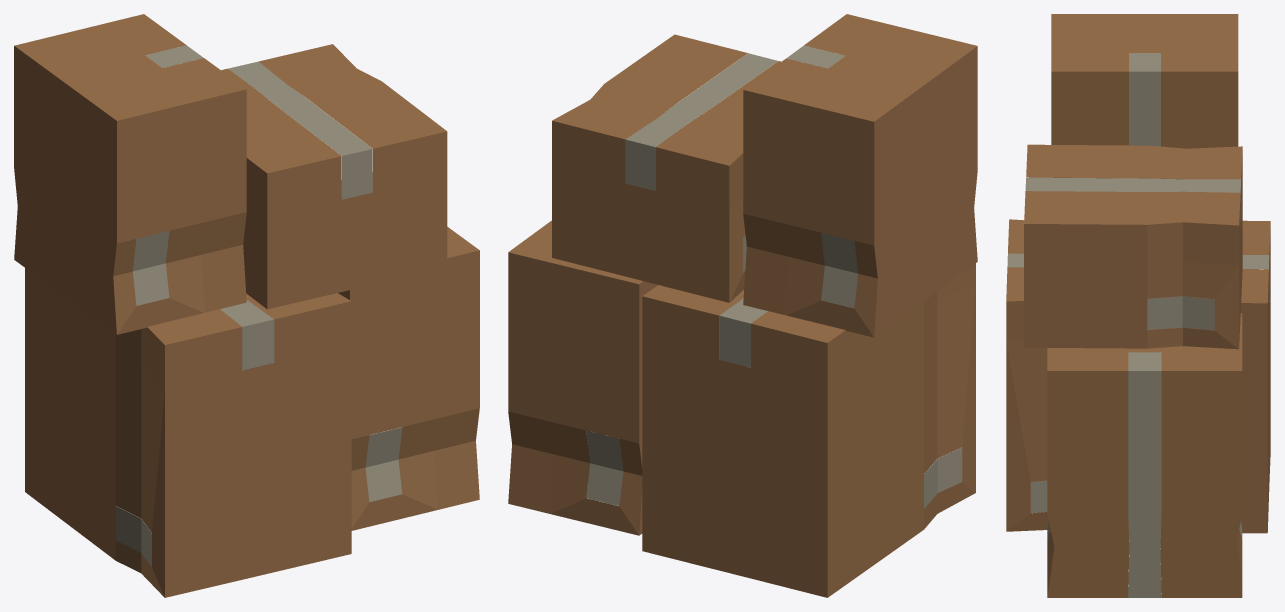
Rendered from CardboardBoxes.glb.
3 views of the same model, side by side, from view 1: azimuth 30°, elevation 25°; view 2: azimuth 150°, elevation 25°; view 3: azimuth 270°, elevation 25° (orthographic). The views are drawn at different scales.
Parts seen in each view (by area): view 1: CardboardBoxes_4; view 2: CardboardBoxes_4; view 3: CardboardBoxes_4.
Boxes of the visible parts, left/top/right/bottom form: CardboardBoxes_4: left=14, top=14, right=479, bottom=597; CardboardBoxes_4: left=508, top=14, right=977, bottom=597; CardboardBoxes_4: left=1006, top=14, right=1270, bottom=597.
Bounding box in the file's own units: 1.42 × 1.75 × 0.9866.
